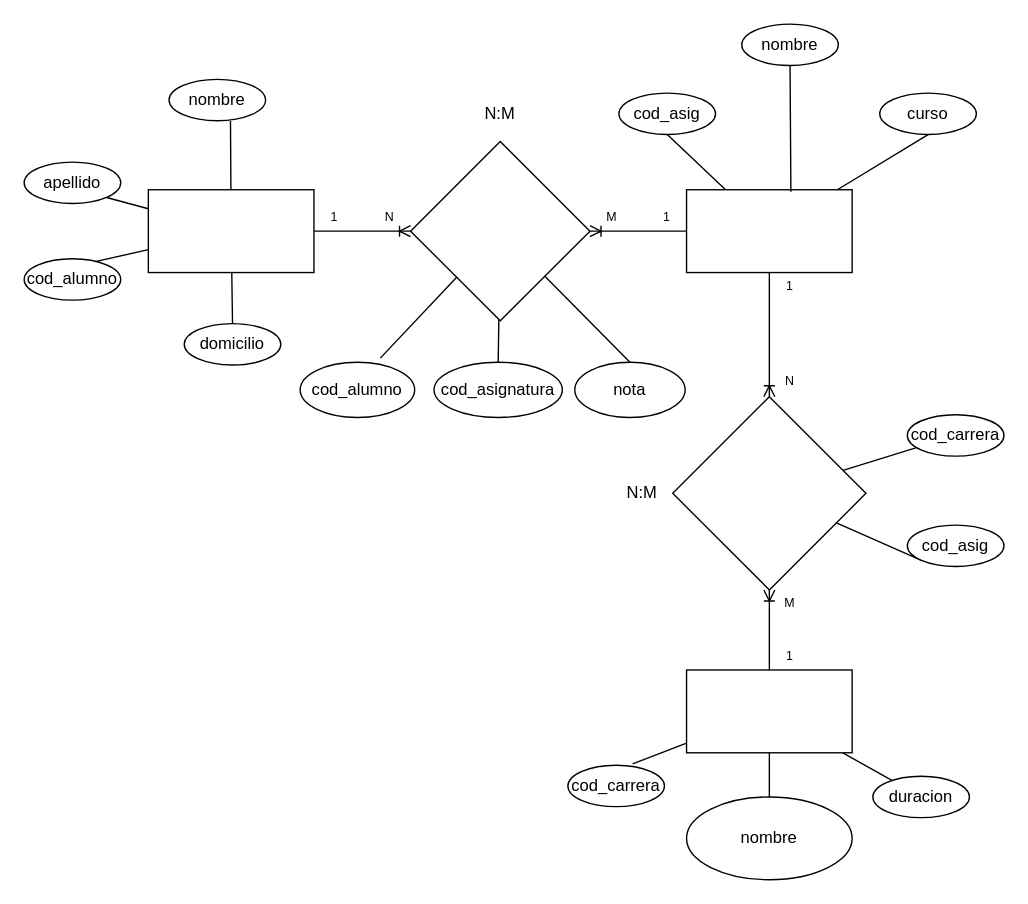
This 1028x904 diagram has some shape labels left out. The shapes that lost their labels are listed below. From the top down, each one's box as (x1, y1, x2, y2) in pixels, then its label:
(147, 188, 314, 273): ALUMNOS
(409, 140, 590, 321): CALIFICACIONES
(685, 188, 852, 273): ASIGNATURAS
(671, 395, 866, 590): ASIGNATURAS_ ASOCIADAS
(685, 669, 852, 753): CARRERAS
